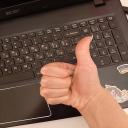ThumbsUp: (38, 33, 104, 115)
